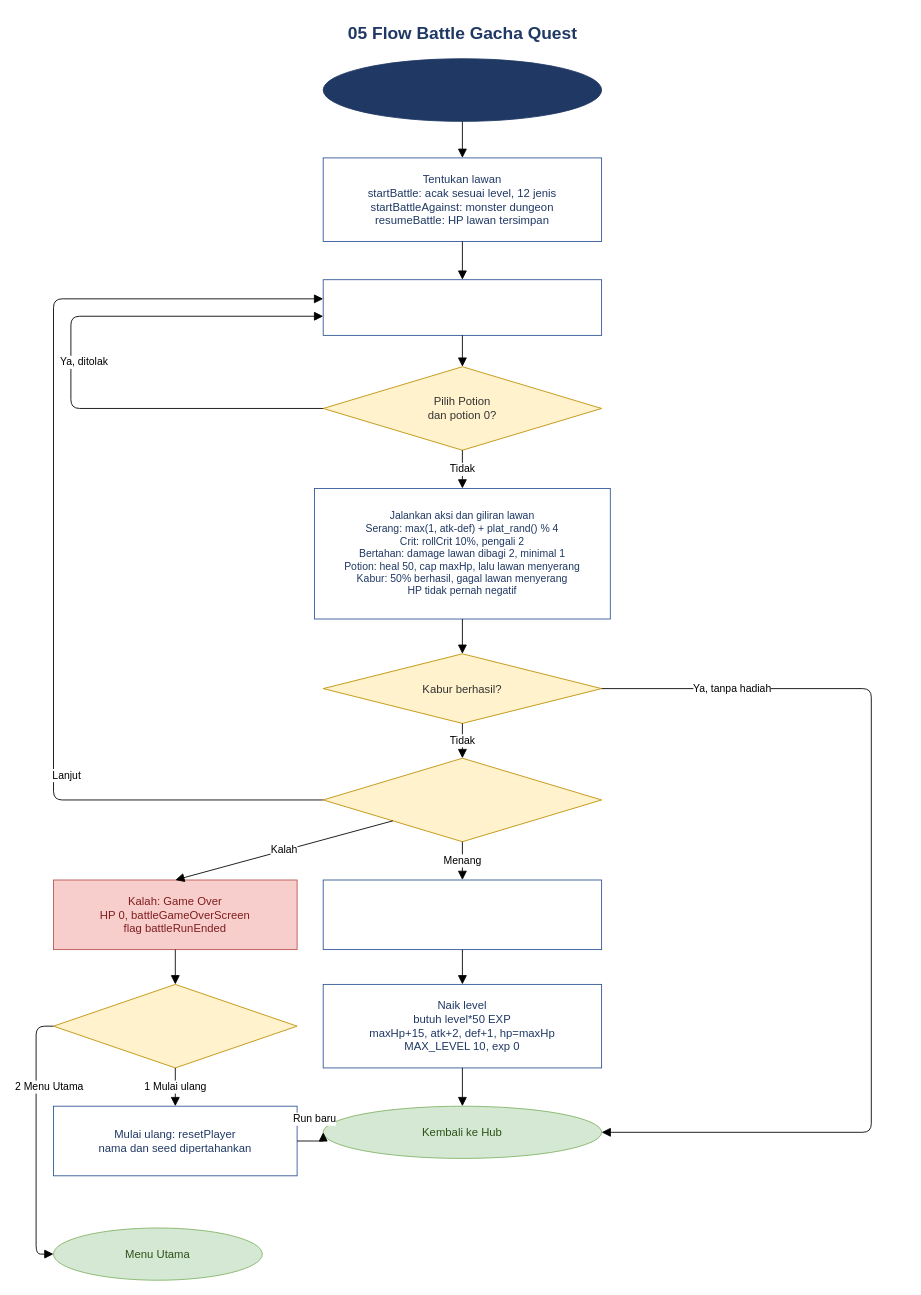
This 921x1295 diagram has some shape labels left out. The centre of each missing label's shape, as x and y in pixels:
Game Over? 1 Mulai ulang 2 Menu Utama: the point at 175,1026
Hasil ronde? Menang / Kalah / Lanjut: the point at 462,799
Menang: Hadiah EXP dan gold addExp, gold, skor = EXP monster: the point at 462,914
Mulai Battle startBattle / startBattleAgainst resumeBattle: the point at 462,89
Pilih aksi 1 Serang 2 Bertahan 3 Potion 4 Kabur: the point at 462,307
